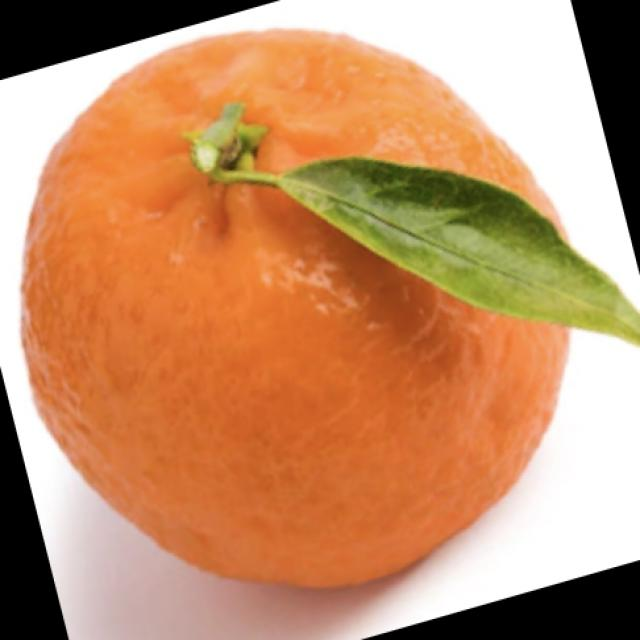fresh: (5, 16, 626, 599)
